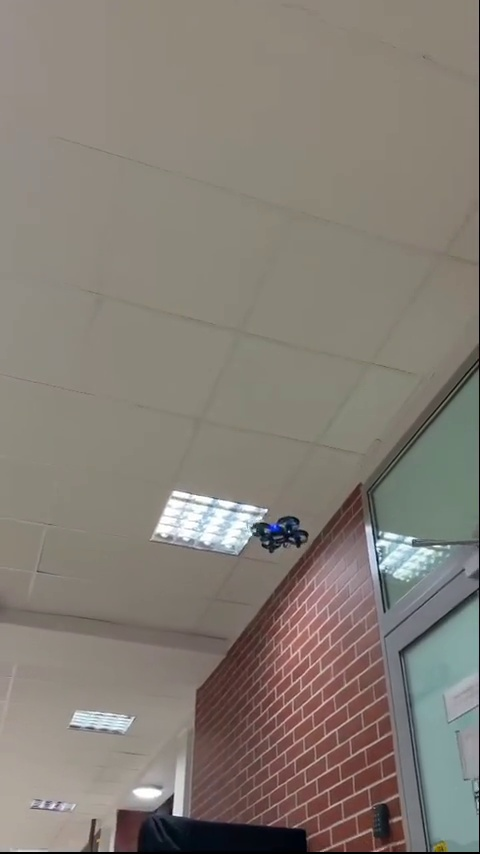drone: (254, 518, 312, 554)
